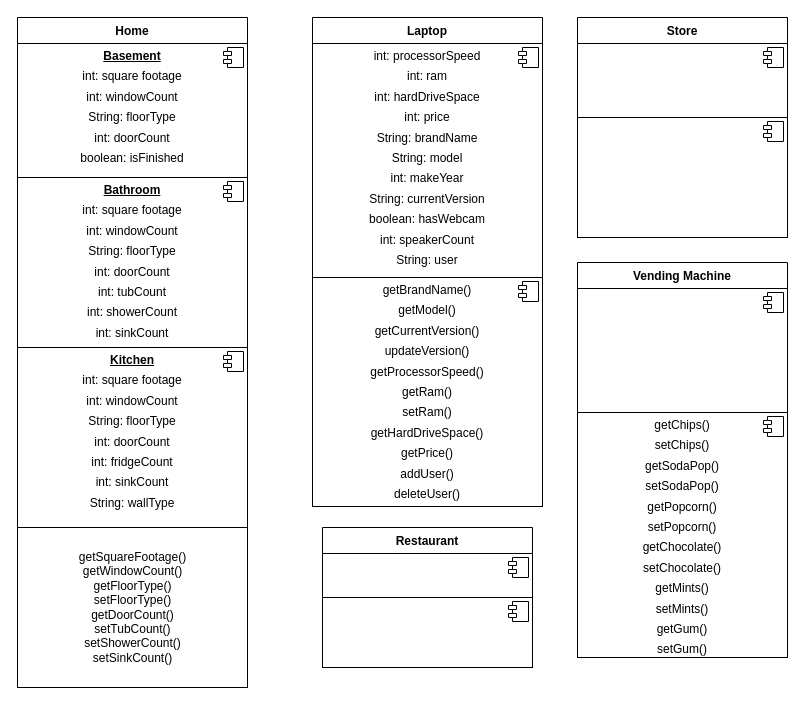
Some shapes in this 805 by 705 pixel diagram are drawn without their labels. Each missing label, with the centre of its shape:
getChips() setChips() getSodaPop() setSodaPop() getChocolate() setChocolate(): point (682, 177)
getSodaPop() setSodaPop() serveSodaPop(): point (427, 632)
int: chips int: sodaPop int: chocolate: point (682, 80)
int: chips int: sodaPop int: popcorn int: chocolate int: mints int: gum: point (682, 350)
int: sodaPop int: sodaPopPrice: point (427, 575)
